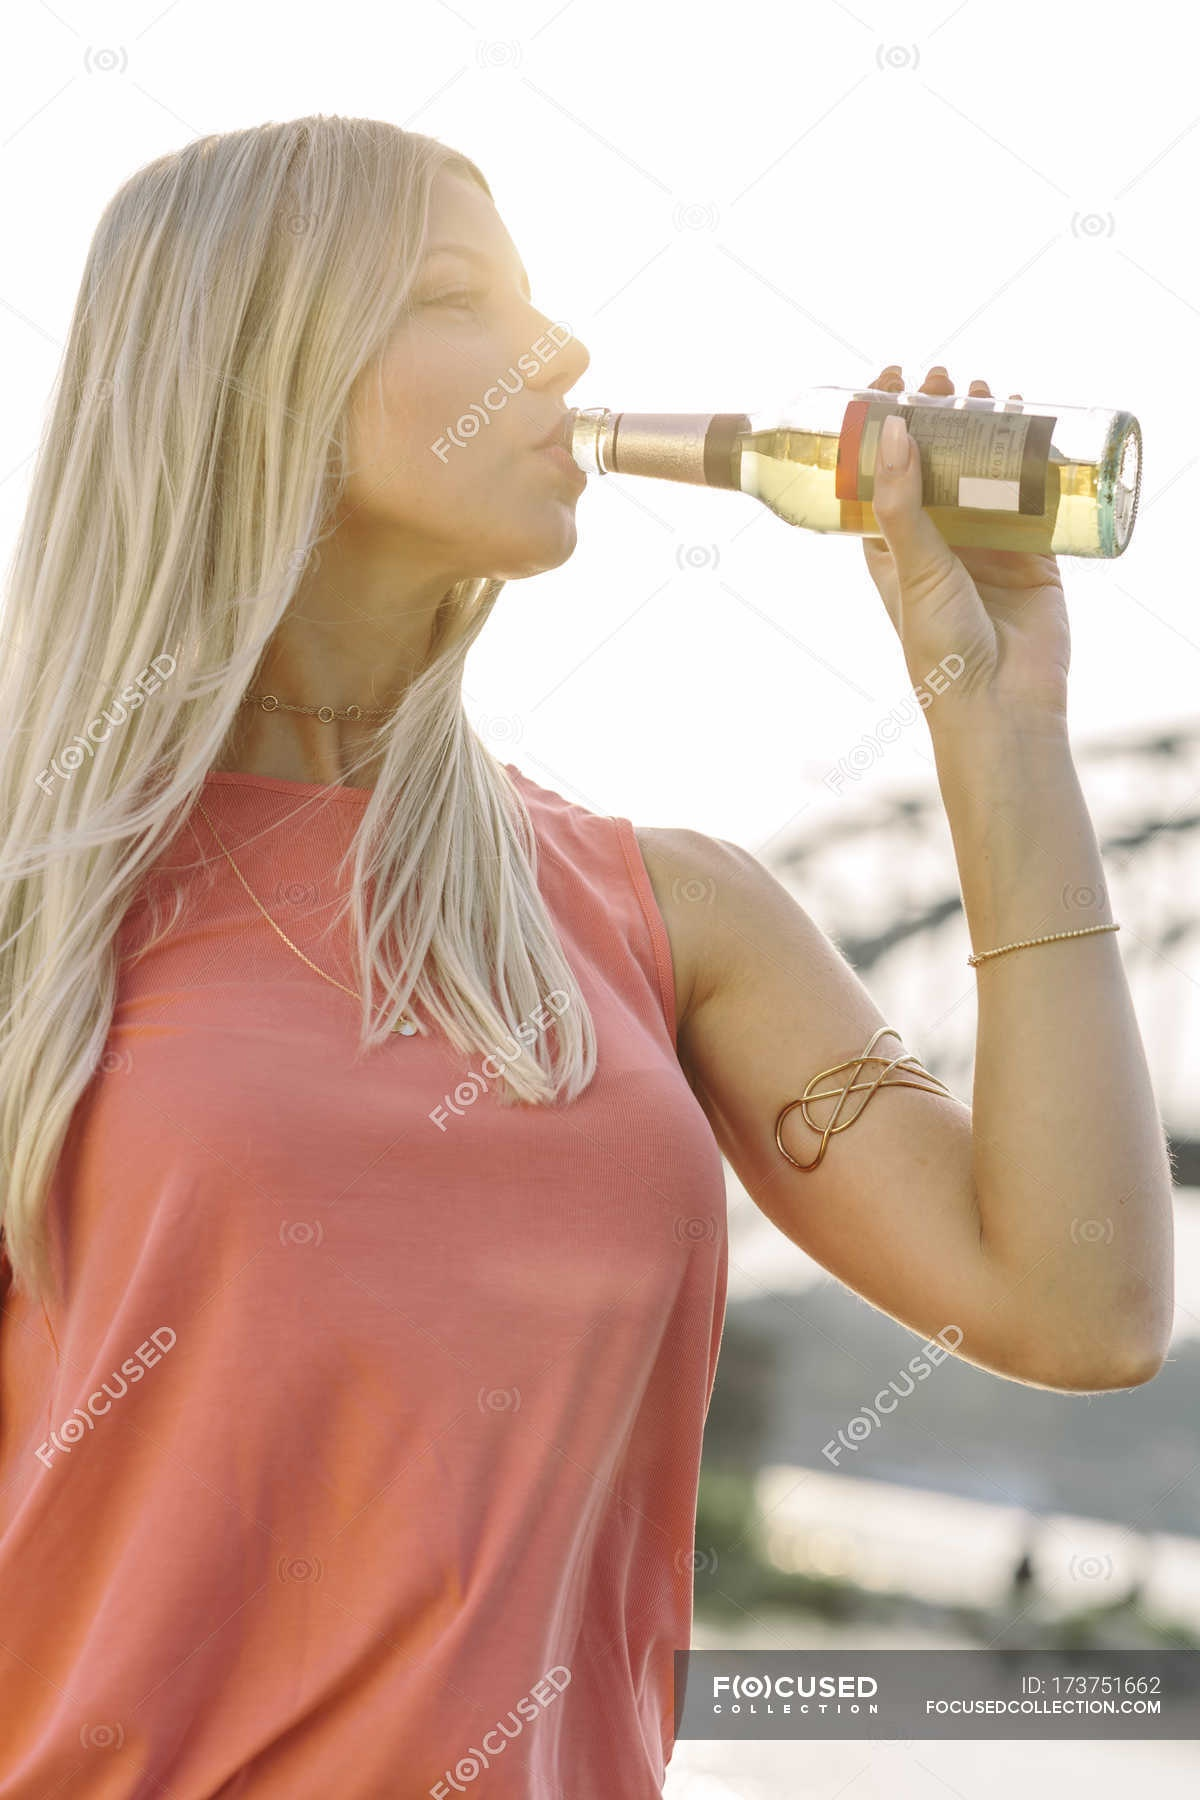beerBottle: (548, 394, 1150, 564)
